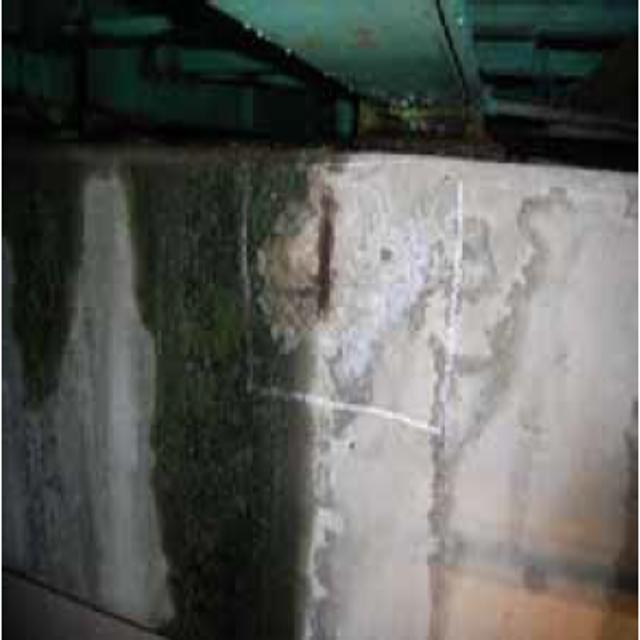leakage: (121, 108, 297, 640), (10, 138, 81, 403)
spalling: (309, 166, 434, 370)
